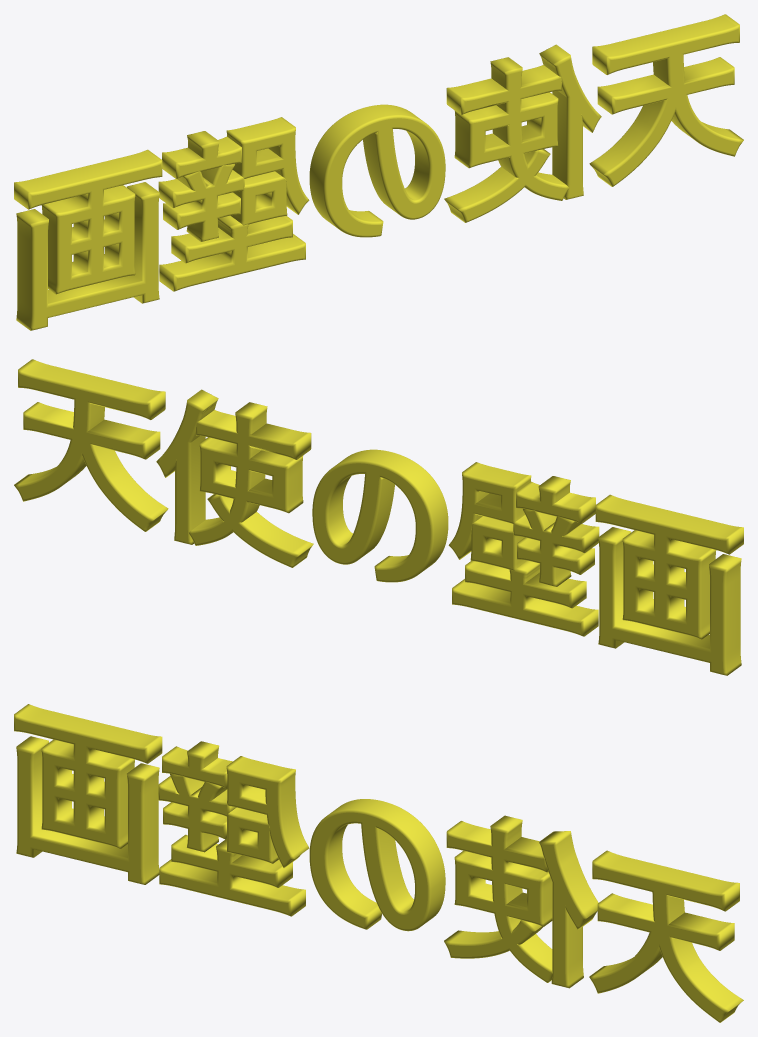
The picture shows the model from 3 angles, top to bottom: view 1: azimuth 30°, elevation 25°; view 2: azimuth 150°, elevation 25°; view 3: azimuth 330°, elevation 25°; orthographic projection.
Visible parts, largest first — view 1: テキスト; view 2: テキスト; view 3: テキスト.
Boxes of the visible parts, box(x1,y1,x2,y2) form: テキスト: box(14, 14, 743, 330); テキスト: box(14, 359, 743, 675); テキスト: box(14, 704, 743, 1022).
Bounding box in the file's own units: 3.02 × 0.5814 × 0.12.
